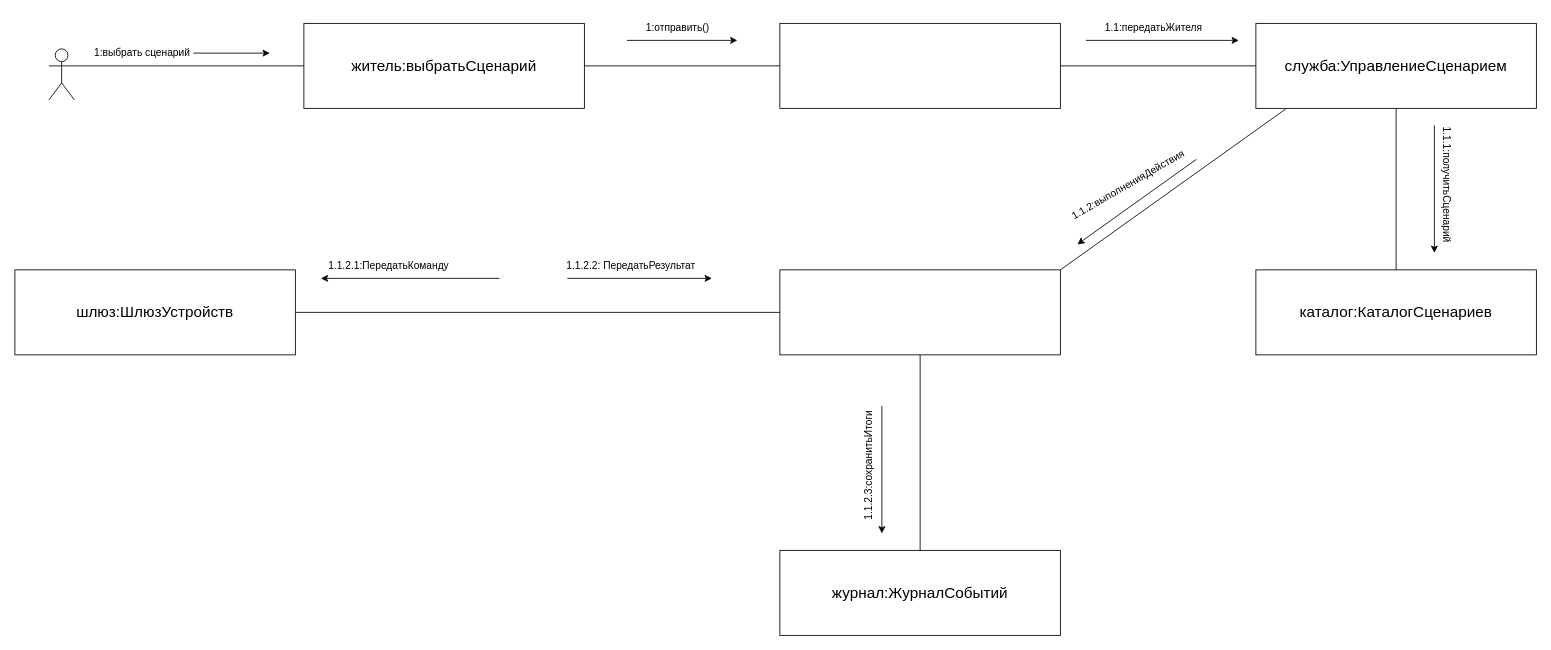
The diagram is 1551 pixels wide and 650 high, and some of its shapes have lost their labels. Here are the shapes that lost their labels. From the top down, the centre of each, then its label:
point (61, 74): Actor
point (919, 65): экран:экранУправления
point (919, 312): исполнитель:ВыполнениеСценария
